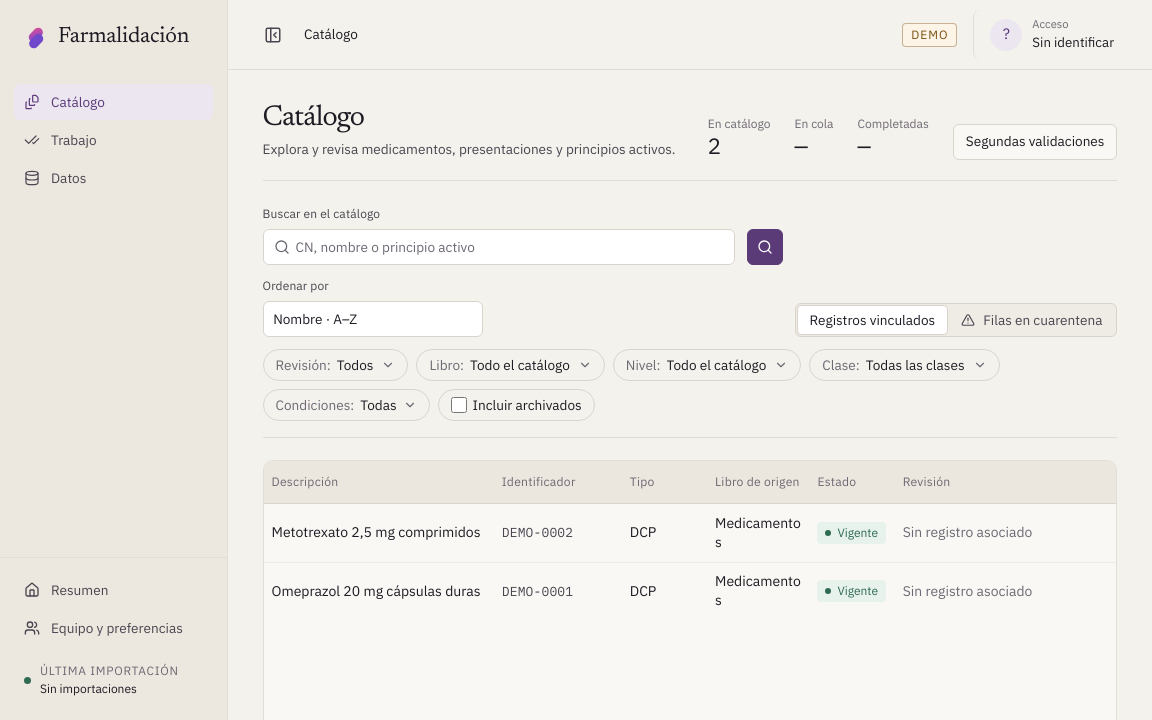
Test: Recorrido de la vertical de revisión › lista las fichas, filtra por búsqueda y abre el detalle
Expected: the button "Metotrexato 2,5 mg comprimidos" is shown, [272,522,486,543]
Expected: the button "Omeprazol 20 mg cápsulas duras" is shown, [272,581,486,602]
Type "metotrexato" into the search field labelled "Buscar en el catálogo" at [498, 247], box [262,229,734,265]
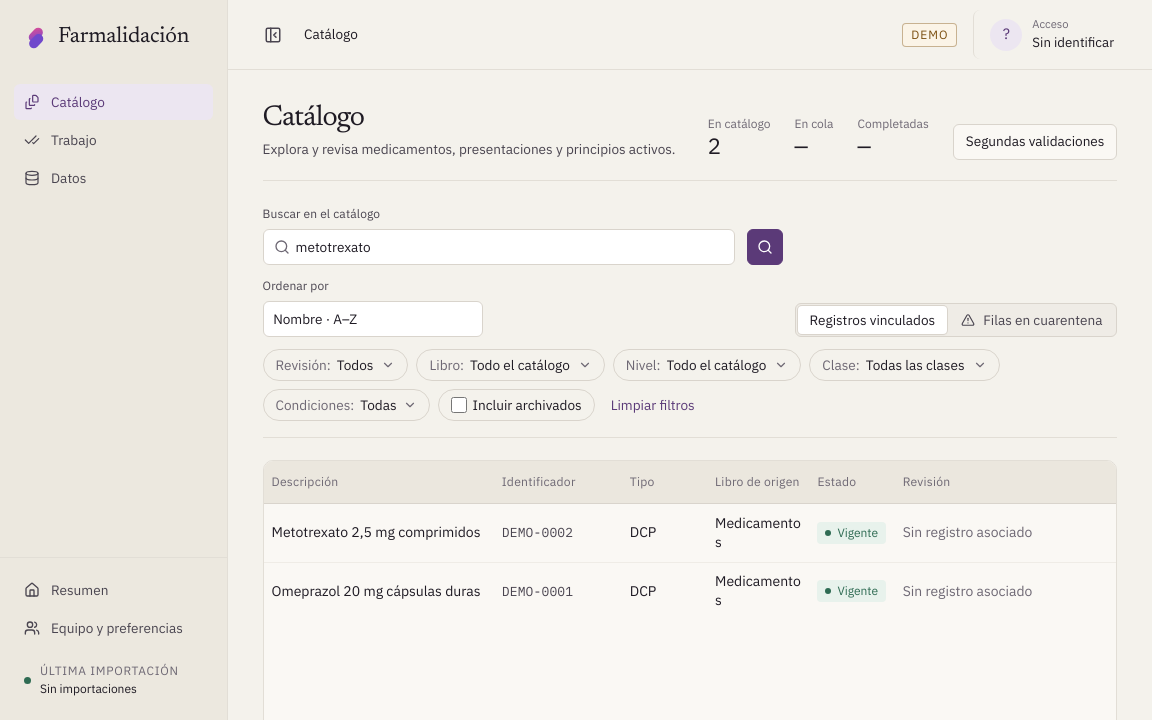
Click the button named "Buscar" at [764, 247], box [746,229,782,265]
(page scrolled)
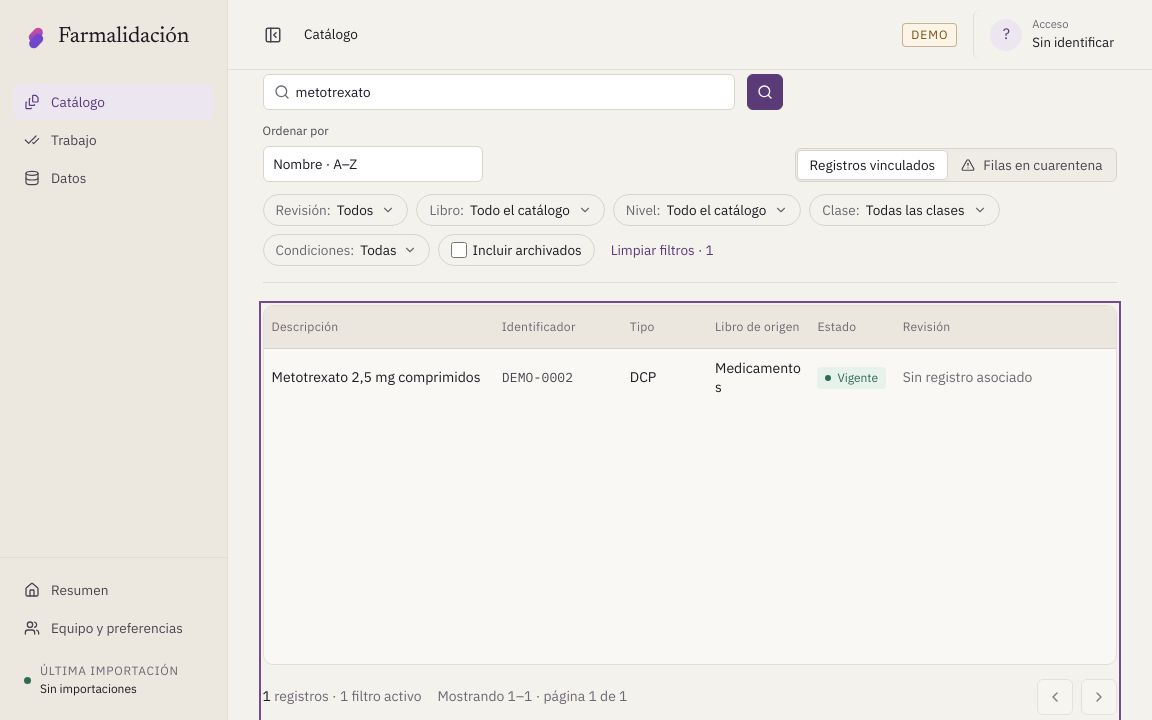
Now the button "Omeprazol 20 mg cápsulas duras" is gone
Click the button "Metotrexato 2,5 mg comprimidos" at [379, 378], box [272,367,486,388]
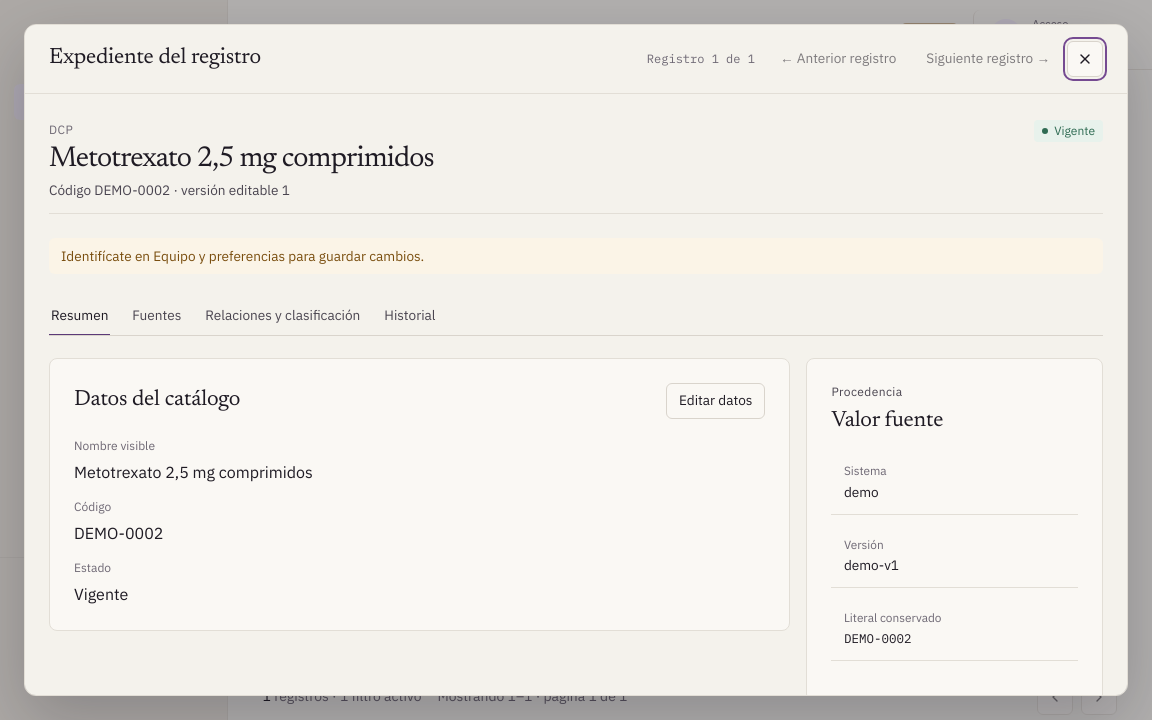
Expected: the element named "Tabla de registros" is shown, [262,305,1117,665]
Now the dialog "Expediente del registro" is shown
Now the heading "Metotrexato 2,5 mg comprimidos" is shown, box [49,143,434,176]
